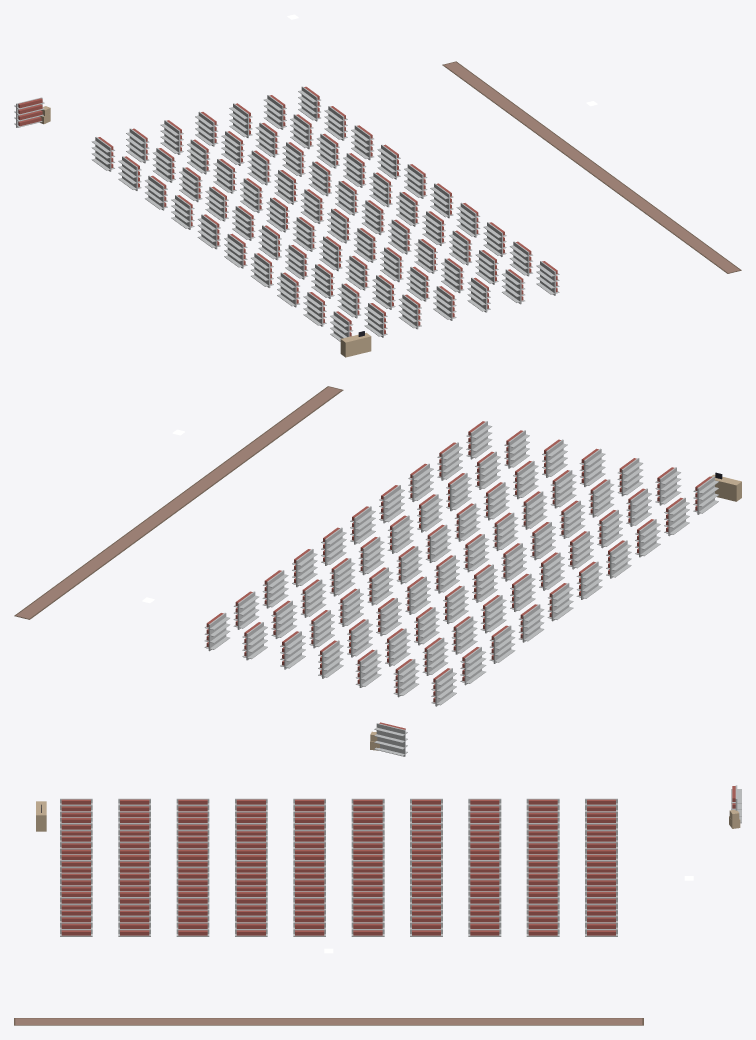
The model's file is fine-s0.glb.
3 views of the same model, one above another, from view 1: azimuth 30°, elevation 25°; view 2: azimuth 150°, elevation 25°; view 3: azimuth 270°, elevation 25° (orthographic). The views are drawn at different scales.
Visible parts, largest first — view 1: soft-s0, shelving.000, shop-counter.000, shelf.052, shelf.051, shelf.039, shelf.000, shelf.004, shelf.027, shelf.041, shelf.053, shelf.066 (+60 smaller); view 2: soft-s0, shelving.000, shelf.012, shelf.046, shelf.003, shelf.020, shelf.038, shelf.028, shelf.037, shelf.061, shelf.062, shelf.053 (+60 smaller); view 3: soft-s0, shelf.061, shelf.062, shelf.064, shelf.067, shelf.060, shelf.063, shelf.065, shelf.066, shelf.068, shelf.069, shelf.001 (+59 smaller).
Part boxes in pixels (<box>): soft-s0: <box>442,61,741,273</box>; shelving.000: <box>14,97,44,127</box>; shop-counter.000: <box>340,331,371,357</box>; shelf.052: <box>316,133,339,168</box>; shelf.051: <box>290,114,313,149</box>; shelf.039: <box>433,286,456,320</box>; shelf.000: <box>91,137,114,171</box>; shelf.004: <box>197,214,220,249</box>; shelf.027: <box>345,255,369,290</box>; shelf.041: <box>255,122,279,157</box>; shelf.053: <box>343,153,366,187</box>; shelf.066: <box>456,202,480,237</box>; soft-s0: <box>14,386,343,619</box>; shelving.000: <box>374,722,407,756</box>; shelf.012: <box>451,616,477,654</box>; shelf.046: <box>454,503,480,541</box>; shelf.003: <box>518,604,544,642</box>; shelf.020: <box>355,649,381,687</box>; shelf.038: <box>550,470,576,508</box>; shelf.028: <box>588,479,614,517</box>; shelf.037: <box>521,491,547,529</box>; shelf.061: <box>233,591,259,629</box>; shelf.062: <box>262,570,288,608</box>; shelf.053: <box>329,558,355,596</box>; soft-s0: <box>14,1018,643,1025</box>; shelf.061: <box>526,909,559,936</box>; shelf.062: <box>468,909,501,936</box>; shelf.064: <box>351,909,384,936</box>; shelf.067: <box>176,909,209,936</box>; shelf.060: <box>585,909,617,936</box>; shelf.063: <box>410,909,442,936</box>; shelf.065: <box>293,909,325,936</box>; shelf.066: <box>235,909,267,936</box>; shelf.068: <box>118,909,150,936</box>; shelf.069: <box>60,909,92,936</box>; shelf.001: <box>526,798,559,817</box>.
Size of the model in its own units: 27.78 by 4.31 by 39.91.
